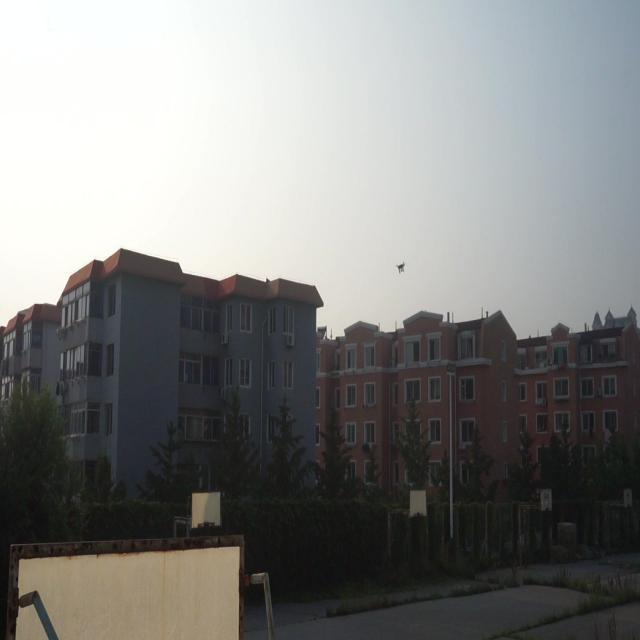UAV: (395, 261, 405, 274)
